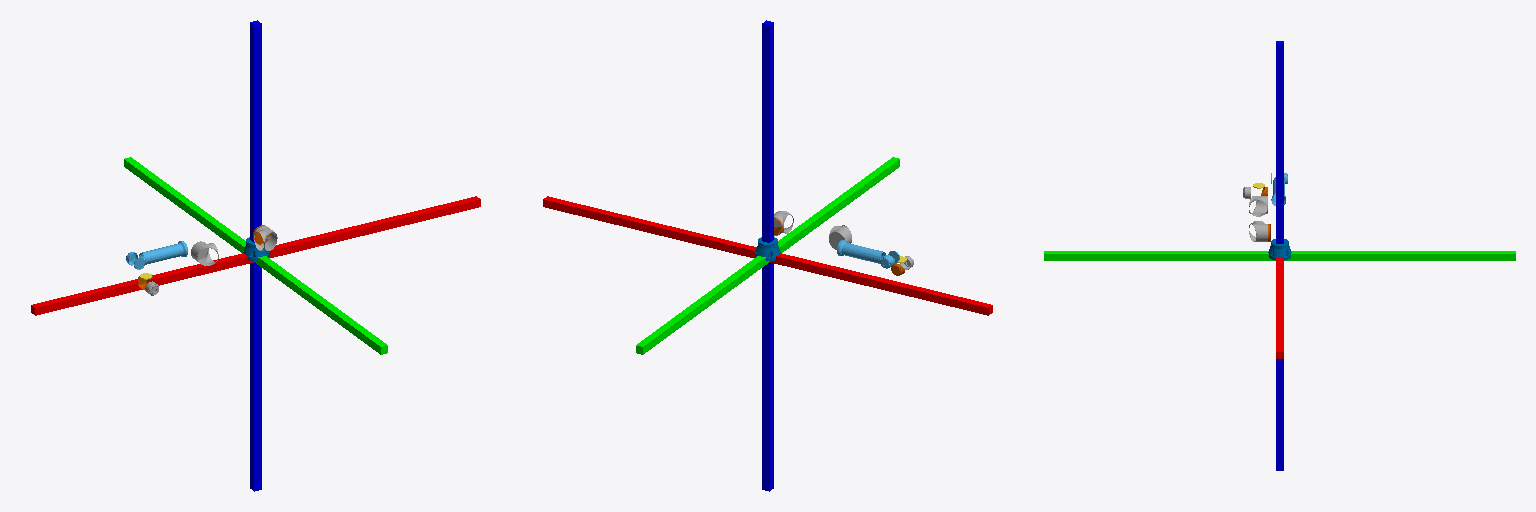
The robot description file, URDF, robot "ur5_with_external_axes":
<?xml version="1.0" ?>
<robot name="ur5_with_external_axes">
    <!--
    ================================================================================
    EXTERNAL AXES DEFINITION (X, Y, Z Prismatic Joints)
    These axes allow the entire UR5 arm to move along the world frame's X, Y, and Z axes.
    The chain is: world -> X_axis -> Y_axis -> Z_axis -> UR5_base
    ================================================================================
    -->

    <link name="world">
        <inertial>
            <origin xyz="0.0 0.0 0.0" rpy="0.0 0.0 0.0"/>
            <mass value="0.0"/>
            <inertia ixx="0.0" iyy="0.0" izz="0.0" ixy="0" ixz="0" iyz="0"/>
        </inertial>
    </link>

    <!-- Intermediate Link for X movement -->
    <link name="base_x_link">
        <visual>
            <geometry>
                <box size="3.0 0.05 0.05"/>
            </geometry>
            <material name="Red">
                <color rgba="1.0 0.0 0.0 1.0"/>
            </material>
        </visual>
        <inertial>
            <origin xyz="0 0 0" rpy="0 0 0"/>
            <mass value="0.001"/>
            <inertia ixx="1e-6" iyy="1e-6" izz="1e-6" ixy="0" ixz="0" iyz="0"/>
        </inertial>
    </link>

    <!-- Joint for X-axis translation -->
    <joint name="external_axis_x_joint" type="prismatic">
        <parent link="world"/>
        <child link="base_x_link"/>
        <origin xyz="0.0 0.0 0.0" rpy="0.0 0.0 0.0"/>
        <axis xyz="1.0 0.0 0.0"/>
        <!-- Limits for movement along X (e.g., +/- 1.5 meters) -->
        <limit lower="-1.5" upper="1.5" effort="1000" velocity="10"/>
    </joint>

    <!-- Intermediate Link for Y movement -->
    <link name="base_y_link">
        <visual>
            <geometry>
                <box size="0.05 3.0 0.05"/>
            </geometry>
            <material name="Green">
                <color rgba="0.0 1.0 0.0 1.0"/>
            </material>
        </visual>
        <inertial>
            <origin xyz="0 0 0" rpy="0 0 0"/>
            <mass value="0.001"/>
            <inertia ixx="1e-6" iyy="1e-6" izz="1e-6" ixy="0" ixz="0" iyz="0"/>
        </inertial>
    </link>

    <!-- Joint for Y-axis translation -->
    <joint name="external_axis_y_joint" type="prismatic">
        <parent link="base_x_link"/>
        <child link="base_y_link"/>
        <origin xyz="0.0 0.0 0.0" rpy="0.0 0.0 0.0"/>
        <axis xyz="0.0 1.0 0.0"/>
        <!-- Limits for movement along Y (e.g., +/- 1.5 meters) -->
        <limit lower="-1.5" upper="1.5" effort="1000" velocity="10"/>
    </joint>

    <!-- Intermediate Link for Z movement -->
    <link name="base_z_link">
        <visual>
            <geometry>
                <box size="0.05 0.05 3.0"/>
            </geometry>
            <material name="Blue">
                <color rgba="0.0 0.0 1.0 1.0"/>
            </material>
        </visual>
        <inertial>
            <origin xyz="0 0 0" rpy="0 0 0"/>
            <mass value="0.001"/>
            <inertia ixx="1e-6" iyy="1e-6" izz="1e-6" ixy="0" ixz="0" iyz="0"/>
        </inertial>
    </link>

    <!-- Joint for Z-axis translation -->
    <joint name="external_axis_z_joint" type="prismatic">
        <parent link="base_y_link"/>
        <child link="base_z_link"/>
        <origin xyz="0.0 0.0 0.0" rpy="0.0 0.0 0.0"/>
        <axis xyz="0.0 0.0 1.0"/>
        <!-- Limits for movement along Z (e.g., +/- 1.5 meters) -->
        <limit lower="-1.5" upper="1.5" effort="1000" velocity="10"/>
    </joint>

    <!-- Fixed joint connecting the Z-axis link to the original UR5 'base' link. -->
    <!-- Note: We reuse the origin transform from the original world2base_fixed joint. -->
    <joint type="fixed" name="external_axes_to_ur5_base_fixed">
        <parent link="base_z_link"/>
        <child link="base"/>
        <origin xyz="0.0 0.0 0.0" rpy="0.0 0.0 3.141592653589793"/>
    </joint>

    <!--
    ================================================================================
    ORIGINAL UR5 ROBOT DEFINITION (Links and Joints preserved from original file)
    ================================================================================
    -->

    <link name="base">
        <inertial>
            <origin xyz="0.0 0.0 0.0" rpy="0.0 0.0 0.0"/>
            <mass value="4.0"/>
            <inertia ixx="0.00443333156" iyy="0.00443333156" izz="0.0072" ixy="0" ixz="0" iyz="0"/>
        </inertial>
        <visual name="base_0">
            <origin xyz="6.729318621181485e-07 -3.6596373548373673e-07 0.09357351429819695" rpy="-1.5707963267948966 -1.5707857113515709 3.141592653589793"/>
            <geometry>
                <mesh filename="meshes/base_0.obj"/>
            </geometry>
        </visual>
        <visual name="base_1">
            <origin xyz="1.503945707798981e-07 5.030274644771805e-07 0.03113409206125086" rpy="-1.399528539771004 -1.5707749404564806 -1.0870925788402255"/>
            <geometry>
                <mesh filename="meshes/base_1.obj"/>
            </geometry>
        </visual>
    </link>

    <link name="shoulder_link">
        <inertial>
            <origin xyz="0.0 0.0 0.0" rpy="0.0 0.0 0.0"/>
            <mass value="3.7"/>
            <inertia ixx="0.0102675" iyy="0.0102675" izz="0.00666" ixy="0" ixz="0" iyz="0"/>
        </inertial>
        <visual name="shoulder_0">
            <origin xyz="0.0001579198071144923 -0.008422927154951222 0.04825544244212041" rpy="2.9720573015818483 -1.2403403911528637 -1.566448043192206"/>
            <geometry>
                <mesh filename="meshes/shoulder_0.obj"/>
            </geometry>
        </visual>
        <visual name="shoulder_1">
            <origin xyz="1.0217402531697843e-06 0.06888462521467517 -0.000503284068890808" rpy="0.16995490760307885 -1.5623390598795694e-05 1.5708061595614313"/>
            <geometry>
                <mesh filename="meshes/shoulder_1.obj"/>
            </geometry>
        </visual>
        <visual name="shoulder_2">
            <origin xyz="-4.987106654918215e-05 0.0005636150374333556 -0.01875771782384345" rpy="1.6252859977178944 0.74319992894974 1.5734657987361387"/>
            <geometry>
                <mesh filename="meshes/shoulder_2.obj"/>
            </geometry>
        </visual>
    </link>
    <link name="shoulder_pan_joint_jointbody">
        <inertial>
            <origin xyz="0.0 0.0 0.0" rpy="0.0 0.0 0.0"/>
            <mass value="0.001"/>
            <inertia ixx="1e-09" iyy="1e-09" izz="1e-09" ixy="0" ixz="0" iyz="0"/>
        </inertial>
    </link>
    <joint type="revolute" name="shoulder_pan_joint">
        <parent link="base"/>
        <child link="shoulder_pan_joint_jointbody"/>
        <origin xyz="0.0 0.0 0.163" rpy="0.0 0.0 0.0"/>
        <axis xyz="0.0 0.0 1.0"/>
        <limit lower="-6.28319" upper="6.28319" effort="100" velocity="100"/>
    </joint>
    <joint type="fixed" name="shoulder_pan_joint_offset">
        <parent link="shoulder_pan_joint_jointbody"/>
        <child link="shoulder_link"/>
        <origin xyz="-0.0 -0.0 -0.0" rpy="0.0 0.0 0.0"/>
    </joint>
    <link name="upper_arm_link">
        <inertial>
            <origin xyz="0.0 0.0 0.2125" rpy="0.0 0.0 0.0"/>
            <mass value="8.393"/>
            <inertia ixx="0.133886" iyy="0.133886" izz="0.0151074" ixy="0" ixz="0" iyz="0"/>
        </inertial>
        <visual name="upperarm_0">
            <origin xyz="-3.5760986999942557e-06 -0.00019999979744521934 0.2121351784520985" rpy="-0.00033054302069512875 -1.4933708105679955e-06 -0.35514353174096286"/>
            <geometry>
                <mesh filename="meshes/upperarm_0.obj"/>
            </geometry>
        </visual>
        <visual name="upperarm_1">
            <origin xyz="-7.532369564797005e-07 -0.02455902448126744 0.29812745654549255" rpy="0.17716174242397165 7.967832782251882e-05 -0.00048191154196722263"/>
            <geometry>
                <mesh filename="meshes/upperarm_1.obj"/>
            </geometry>
        </visual>
        <visual name="upperarm_2">
            <origin xyz="1.2475330963946302e-05 -0.020613766332852907 0.21354779205990887" rpy="-4.279076197777343e-05 -0.00939633188786626 1.5726071086918691"/>
            <geometry>
                <mesh filename="meshes/upperarm_2.obj"/>
            </geometry>
        </visual>
        <visual name="upperarm_3">
            <origin xyz="-1.6738822332805943e-05 0.04530972332900902 0.21224046110461658" rpy="-1.1169861401483239e-05 -0.00033473145213402944 1.5712747113366192"/>
            <geometry>
                <mesh filename="meshes/upperarm_3.obj"/>
            </geometry>
        </visual>
    </link>
    <link name="shoulder_lift_joint_jointbody">
        <inertial>
            <origin xyz="0.0 0.0 0.0" rpy="0.0 0.0 0.0"/>
            <mass value="0.001"/>
            <inertia ixx="1e-09" iyy="1e-09" izz="1e-09" ixy="0" ixz="0" iyz="0"/>
        </inertial>
    </link>
    <joint type="revolute" name="shoulder_lift_joint">
        <parent link="shoulder_link"/>
        <child link="shoulder_lift_joint_jointbody"/>
        <origin xyz="0.0 0.138 0.0" rpy="-0.0 1.5707963267948966 0.0"/>
        <axis xyz="0.0 1.0 0.0"/>
        <limit lower="-6.28319" upper="6.28319" effort="100" velocity="100"/>
    </joint>
    <joint type="fixed" name="shoulder_lift_joint_offset">
        <parent link="shoulder_lift_joint_jointbody"/>
        <child link="upper_arm_link"/>
        <origin xyz="-0.0 -0.0 -0.0" rpy="0.0 0.0 0.0"/>
    </joint>
    <link name="forearm_link">
        <inertial>
            <origin xyz="0.0 0.0 0.196" rpy="0.0 0.0 0.0"/>
            <mass value="2.275"/>
            <inertia ixx="0.0311796" iyy="0.0311796" izz="0.004095" ixy="0" ixz="0" iyz="0"/>
        </inertial>
        <visual name="forearm_0">
            <origin xyz="2.6207363383002557e-05 -0.03986927887408664 0.39588938552993114" rpy="0.14899667064407296 0.3108521731199525 1.5710806045312697"/>
            <geometry>
                <mesh filename="meshes/forearm_0.obj"/>
            </geometry>
        </visual>
        <visual name="forearm_1">
            <origin xyz="-2.3636867243387616e-05 -0.0004340913719860277 0.204343083020783" rpy="0.0003357950292532941 -0.0005516154353499836 1.3332982833164047"/>
            <geometry>
                <mesh filename="meshes/forearm_1.obj"/>
            </geometry>
        </visual>
        <visual name="forearm_2">
            <origin xyz="-9.66138589916062e-06 0.016976509028764613 0.25503902118262084" rpy="-0.1463016262272855 0.0006537089324485379 0.004919271858447524"/>
            <geometry>
                <mesh filename="meshes/forearm_2.obj"/>
            </geometry>
        </visual>
        <visual name="forearm_3">
            <origin xyz="2.975142777834475e-06 0.01196066834502387 0.163616824759711" rpy="2.9786105121054618e-05 0.020325139034571116 1.5715676831718508"/>
            <geometry>
                <mesh filename="meshes/forearm_3.obj"/>
            </geometry>
        </visual>
    </link>
    <link name="elbow_joint_jointbody">
        <inertial>
            <origin xyz="0.0 0.0 0.0" rpy="0.0 0.0 0.0"/>
            <mass value="0.001"/>
            <inertia ixx="1e-09" iyy="1e-09" izz="1e-09" ixy="0" ixz="0" iyz="0"/>
        </inertial>
    </link>
    <joint type="revolute" name="elbow_joint">
        <parent link="upper_arm_link"/>
        <child link="elbow_joint_jointbody"/>
        <origin xyz="0.0 -0.131 0.425" rpy="0.0 0.0 0.0"/>
        <axis xyz="0.0 1.0 0.0"/>
        <limit lower="-3.1415" upper="3.1415" effort="100" velocity="100"/>
    </joint>
    <joint type="fixed" name="elbow_joint_offset">
        <parent link="elbow_joint_jointbody"/>
        <child link="forearm_link"/>
        <origin xyz="-0.0 -0.0 -0.0" rpy="0.0 0.0 0.0"/>
    </joint>
    <link name="wrist_1_link">
        <inertial>
            <origin xyz="0.0 0.127 0.0" rpy="0.0 0.0 0.0"/>
            <mass value="1.219"/>
            <inertia ixx="0.0025599" iyy="0.0025599" izz="0.0021942" ixy="0" ixz="0" iyz="0"/>
        </inertial>
        <visual name="wrist1_0">
            <origin xyz="-2.324752008885248e-05 0.12628514044400524 0.04897505972393637" rpy="-1.5707963267955911 -1.5705970679188206 -1.169748682409278"/>
            <geometry>
                <mesh filename="meshes/wrist1_0.obj"/>
            </geometry>
        </visual>
        <visual name="wrist1_1">
            <origin xyz="-3.6644583695254237e-05 0.13040179162514767 -0.039703488567445454" rpy="-3.0659680894269 -1.2613429633090303 -1.5694033802823593"/>
            <geometry>
                <mesh filename="meshes/wrist1_1.obj"/>
            </geometry>
        </visual>
        <visual name="wrist1_2">
            <origin xyz="-2.0990614937820244e-06 0.11289621711604998 0.012388333942626797" rpy="-3.1400977441796236 -1.0305077756151968 -1.572331006823194"/>
            <geometry>
                <mesh filename="meshes/wrist1_2.obj"/>
            </geometry>
        </visual>
    </link>
    <link name="wrist_1_joint_jointbody">
        <inertial>
            <origin xyz="0.0 0.0 0.0" rpy="0.0 0.0 0.0"/>
            <mass value="0.001"/>
            <inertia ixx="1e-09" iyy="1e-09" izz="1e-09" ixy="0" ixz="0" iyz="0"/>
        </inertial>
    </link>
    <joint type="revolute" name="wrist_1_joint">
        <parent link="forearm_link"/>
        <child link="wrist_1_joint_jointbody"/>
        <origin xyz="0.0 0.0 0.392" rpy="-0.0 1.5707963267948966 0.0"/>
        <axis xyz="0.0 1.0 0.0"/>
        <limit lower="-6.28319" upper="6.28319" effort="100" velocity="100"/>
    </joint>
    <joint type="fixed" name="wrist_1_joint_offset">
        <parent link="wrist_1_joint_jointbody"/>
        <child link="wrist_1_link"/>
        <origin xyz="-0.0 -0.0 -0.0" rpy="0.0 0.0 0.0"/>
    </joint>
    <link name="wrist_2_link">
        <inertial>
            <origin xyz="0.0 0.0 0.1" rpy="0.0 0.0 0.0"/>
            <mass value="1.219"/>
            <inertia ixx="0.0025599" iyy="0.0025599" izz="0.0021942" ixy="0" ixz="0" iyz="0"/>
        </inertial>
        <visual name="wrist2_0">
            <origin xyz="-3.8001937811610543e-06 0.04853645611151084 0.09943580433195488" rpy="0.17748605449059573 0.0 1.5707963267948966"/>
            <geometry>
                <mesh filename="meshes/wrist2_0.obj"/>
            </geometry>
        </visual>
        <visual name="wrist2_1">
            <origin xyz="3.169640163593594e-05 -0.040206055715980675 0.10359119935436584" rpy="0.11116566518449311 0.3094663745829749 1.5711748623937276"/>
            <geometry>
                <mesh filename="meshes/wrist2_1.obj"/>
            </geometry>
        </visual>
        <visual name="wrist2_2">
            <origin xyz="9.000191078913615e-07 0.016056655860314212 0.09663180277604577" rpy="-3.1411058592901813 -0.8028357577556227 -1.5708829412270986"/>
            <geometry>
                <mesh filename="meshes/wrist2_2.obj"/>
            </geometry>
        </visual>
    </link>
    <link name="wrist_2_joint_jointbody">
        <inertial>
            <origin xyz="0.0 0.0 0.0" rpy="0.0 0.0 0.0"/>
            <mass value="0.001"/>
            <inertia ixx="1e-09" iyy="1e-09" izz="1e-09" ixy="0" ixz="0" iyz="0"/>
        </inertial>
    </link>
    <joint type="revolute" name="wrist_2_joint">
        <parent link="wrist_1_link"/>
        <child link="wrist_2_joint_jointbody"/>
        <origin xyz="0.0 0.127 0.0" rpy="0.0 0.0 0.0"/>
        <axis xyz="0.0 0.0 1.0"/>
        <limit lower="-6.28319" upper="6.28319" effort="100" velocity="100"/>
    </joint>
    <joint type="fixed" name="wrist_2_joint_offset">
        <parent link="wrist_2_joint_jointbody"/>
        <child link="wrist_2_link"/>
        <origin xyz="-0.0 -0.0 -0.0" rpy="0.0 0.0 0.0"/>
    </joint>
    <link name="wrist_3_link">
        <inertial>
            <origin xyz="0.0 0.0771683 0.0" rpy="0.0 0.0 1.5707963267948963"/>
            <mass value="0.1889"/>
            <inertia ixx="0.000132134" iyy="9.90863e-05" izz="9.90863e-05" ixy="0" ixz="0" iyz="0"/>
        </inertial>
        <visual name="wrist3">
            <origin xyz="1.3730314416336136e-05 0.07930911124904105 -0.0005378684357207328" rpy="0.22605647583783017 0.004863637106366836 1.5703149375099286"/>
            <geometry>
                <mesh filename="meshes/wrist3.obj"/>
            </geometry>
        </visual>
    </link>
    <link name="wrist_3_joint_jointbody">
        <inertial>
            <origin xyz="0.0 0.0 0.0" rpy="0.0 0.0 0.0"/>
            <mass value="0.001"/>
            <inertia ixx="1e-09" iyy="1e-09" izz="1e-09" ixy="0" ixz="0" iyz="0"/>
        </inertial>
    </link>
    <joint type="revolute" name="wrist_3_joint">
        <parent link="wrist_2_link"/>
        <child link="wrist_3_joint_jointbody"/>
        <origin xyz="0.0 0.0 0.1" rpy="0.0 0.0 0.0"/>
        <axis xyz="0.0 1.0 0.0"/>
        <limit lower="-6.28319" upper="6.28319" effort="100" velocity="100"/>
    </joint>
    <joint type="fixed" name="wrist_3_joint_offset">
        <parent link="wrist_3_joint_jointbody"/>
        <child link="wrist_3_link"/>
        <origin xyz="-0.0 -0.0 -0.0" rpy="0.0 0.0 0.0"/>
    </joint>
</robot>

--- What the picture shows (computed from the rendered views, not written in the file) ---
The picture shows the robot from 3 angles, left to right: view 1: azimuth 30°, elevation 25°; view 2: azimuth 150°, elevation 25°; view 3: azimuth 270°, elevation 25°; orthographic projection.
Robot: ur5_with_external_axes — 17 links, 16 joints (6 revolute, 3 prismatic, 7 fixed); root link world; default pose: all joints at 0.
Visible links, largest first — view 1: base_z_link, base_x_link, base_y_link, forearm_link, upper_arm_link; view 2: base_z_link, base_x_link, base_y_link, forearm_link, upper_arm_link; view 3: base_y_link, base_z_link, base_x_link, upper_arm_link.
Link boxes in pixels (bbox=[...]): base_z_link: bbox=[250, 20, 261, 491]; base_x_link: bbox=[31, 196, 480, 315]; base_y_link: bbox=[124, 157, 387, 354]; forearm_link: bbox=[126, 241, 187, 269]; upper_arm_link: bbox=[191, 226, 277, 265]; base_z_link: bbox=[762, 20, 773, 491]; base_x_link: bbox=[543, 196, 992, 315]; base_y_link: bbox=[636, 157, 899, 354]; forearm_link: bbox=[837, 240, 899, 268]; upper_arm_link: bbox=[774, 211, 851, 249]; base_y_link: bbox=[1044, 251, 1515, 260]; base_z_link: bbox=[1276, 41, 1283, 470]; base_x_link: bbox=[1276, 257, 1283, 358]; upper_arm_link: bbox=[1249, 196, 1267, 241].
Size in the robot's own frame: 3 by 3 by 3 metres.
10 mesh visuals loaded from 20 distinct referenced files (10 OBJ); not drawn: 10 (reference not matched to a file when rendering).